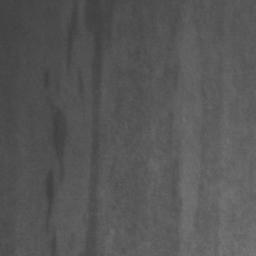Inclusion: (84, 0, 104, 256), (54, 108, 68, 180), (46, 173, 55, 201)
